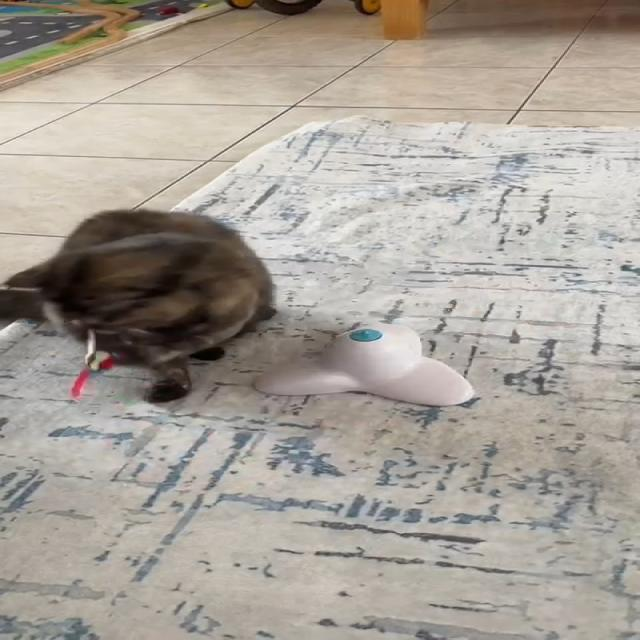authorized: (0, 206, 277, 402)
